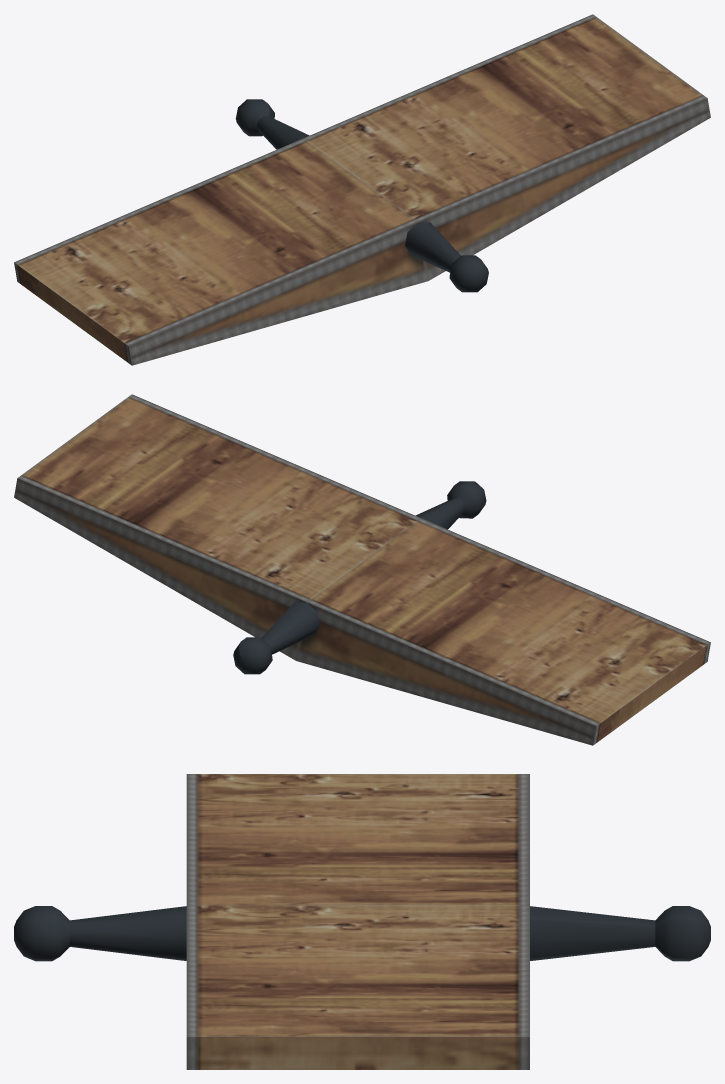
File: P_Modul30.FBX
3 renders of one model, top to bottom at view 1: azimuth 30°, elevation 25°; view 2: azimuth 150°, elevation 25°; view 3: azimuth 270°, elevation 25°, orthographic. The views are drawn at different scales.
Visible parts, largest first — view 1: P_Modul_30_Wippe, P_Modul30_AD, P_Modul30_BD, P_Modul30_BU, P_Modul_30_AU; view 2: P_Modul_30_Wippe, P_Modul_30_AU, P_Modul30_BU, P_Modul30_BD, P_Modul30_AD; view 3: P_Modul_30_Wippe, P_Modul_30_AU, P_Modul30_AD, P_Modul30_BD, P_Modul30_BU.
Part boxes in pixels (x1,y1,x2,y2): P_Modul_30_Wippe: [14, 14, 710, 365]; P_Modul30_AD: [405, 222, 460, 272]; P_Modul30_BD: [449, 255, 488, 292]; P_Modul30_BU: [235, 99, 274, 136]; P_Modul_30_AU: [256, 116, 309, 149]; P_Modul_30_Wippe: [14, 394, 710, 745]; P_Modul_30_AU: [261, 602, 319, 654]; P_Modul30_BU: [233, 637, 272, 674]; P_Modul30_BD: [447, 481, 486, 518]; P_Modul30_AD: [415, 498, 465, 529]; P_Modul_30_Wippe: [186, 774, 529, 1069]; P_Modul_30_AU: [530, 906, 655, 960]; P_Modul30_AD: [70, 906, 186, 960]; P_Modul30_BD: [14, 906, 69, 961]; P_Modul30_BU: [655, 906, 710, 961].
Size of the model in its own units: 14.66 by 3.06 by 10.15.
2 materials, 1 textured.
